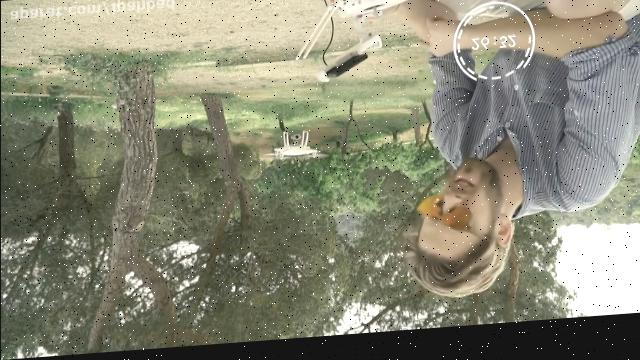drone: (262, 132, 331, 168)
